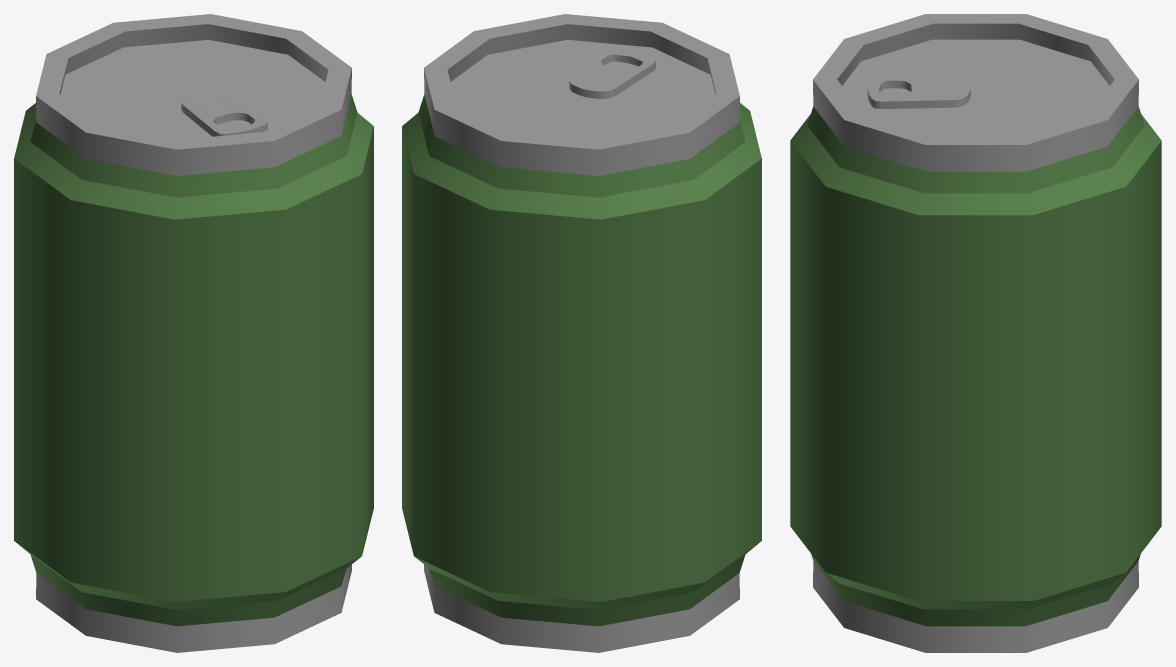
File: EnergyDrink_02.fbx
3 renders of one model, left to right at view 1: azimuth 30°, elevation 25°; view 2: azimuth 150°, elevation 25°; view 3: azimuth 270°, elevation 25°, orthographic.
Visible parts, largest first — view 1: EnergyDrink_02; view 2: EnergyDrink_02; view 3: EnergyDrink_02.
Boxes of the visible parts, x1,y1,x2,y2 form: EnergyDrink_02: (14,14,373,652); EnergyDrink_02: (402,14,761,652); EnergyDrink_02: (790,14,1161,652).
Bounding box in the file's own units: 0.081 × 0.1286 × 0.0852.
